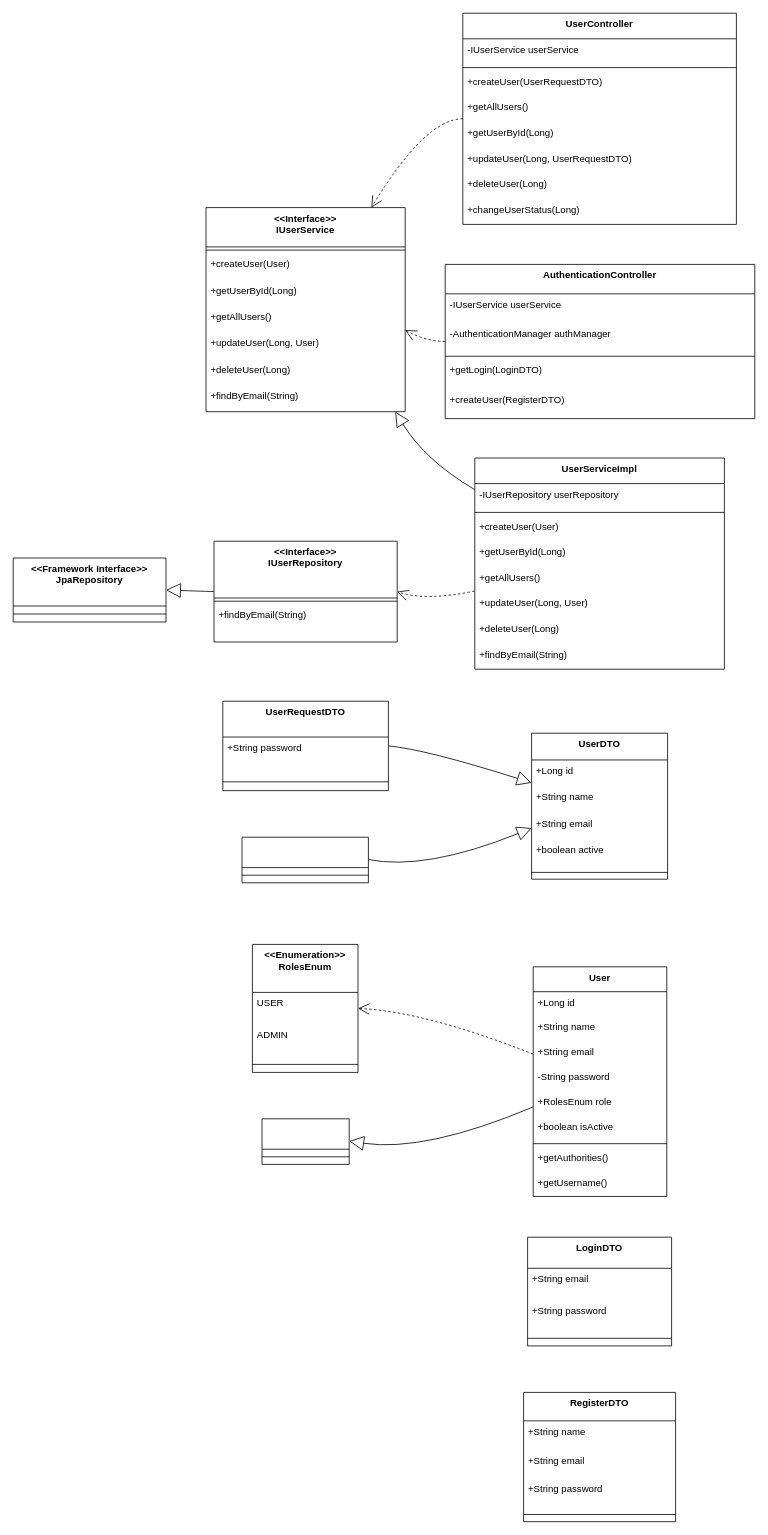
Some shapes in this 768 by 1535 pixel diagram are drawn without their labels. The shapes that lost their labels are listed below. From the top down, each one's centre as x and y in pixels, then its label:
point (304, 859): UserResponseDTO
point (305, 1141): UserDetails
